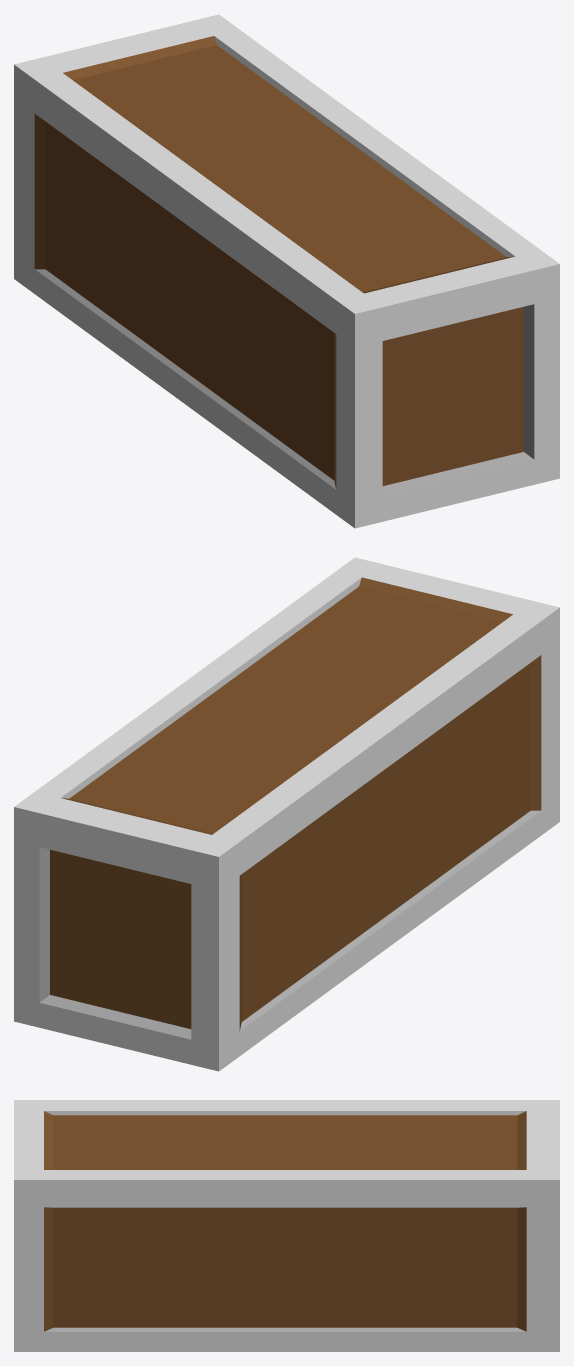
The model's file is Long Box.fbx.
The picture shows the model from 3 angles, top to bottom: view 1: azimuth 30°, elevation 25°; view 2: azimuth 150°, elevation 25°; view 3: azimuth 270°, elevation 25°; orthographic projection. The views are drawn at different scales.
Visible parts, largest first — view 1: pCube1; view 2: pCube1; view 3: pCube1.
Boxes of the visible parts, x1=… form: pCube1: x1=14, y1=14, x2=559, y2=528; pCube1: x1=14, y1=557, x2=559, y2=1071; pCube1: x1=14, y1=1100, x2=559, y2=1351.
Size of the model in its own units: 22.13 by 22.13 by 63.75.
